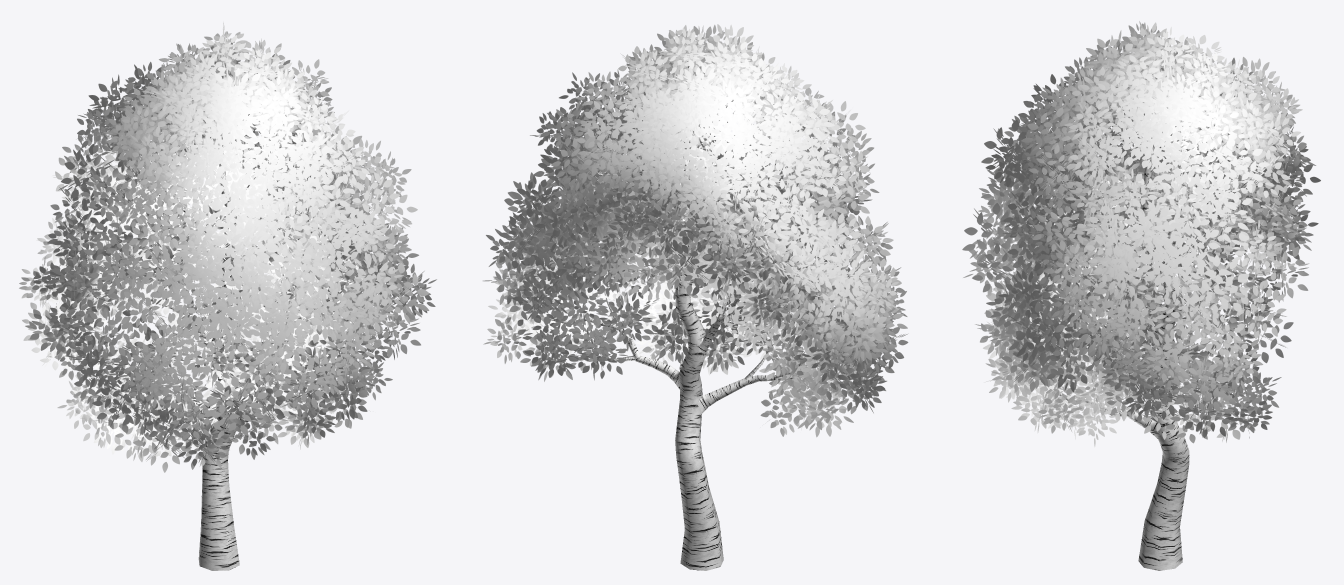
File: Broadleaf_Small_1.glb
The picture shows the model from 3 angles, left to right: view 1: azimuth 30°, elevation 25°; view 2: azimuth 150°, elevation 25°; view 3: azimuth 270°, elevation 25°; orthographic projection. The views are drawn at different scales.
Parts seen in each view (by area): view 1: Broadleaf_Small_1; view 2: Broadleaf_Small_1; view 3: Broadleaf_Small_1.
Part boxes in pixels (left/top/right/bottom): Broadleaf_Small_1: left=19, top=22, right=436, bottom=570; Broadleaf_Small_1: left=483, top=24, right=908, bottom=570; Broadleaf_Small_1: left=962, top=21, right=1320, bottom=570.
Size of the model in its own units: 66.9 by 87.09 by 56.07.
2 materials, 2 textured.
